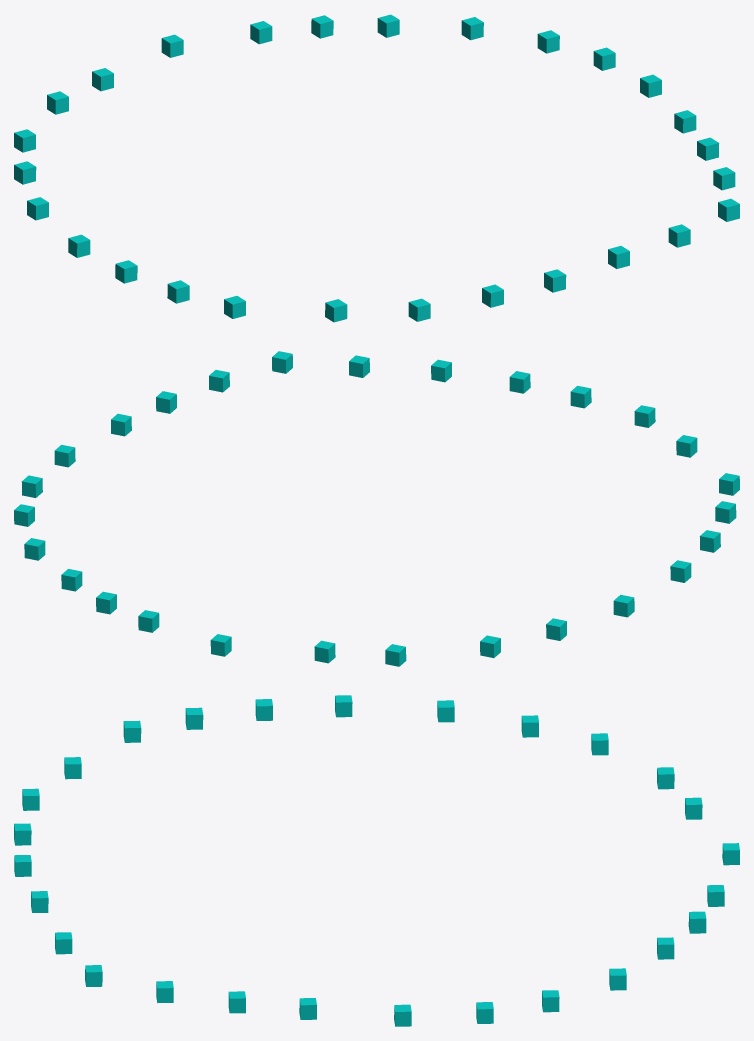
File: mycircle.dae
The picture shows the model from 3 angles, top to bottom: view 1: azimuth 30°, elevation 25°; view 2: azimuth 150°, elevation 25°; view 3: azimuth 270°, elevation 25°; orthographic projection. The views are drawn at different scales.
Bounding box in the file's own units: 17.77 × 17.63 × 0.6692.
